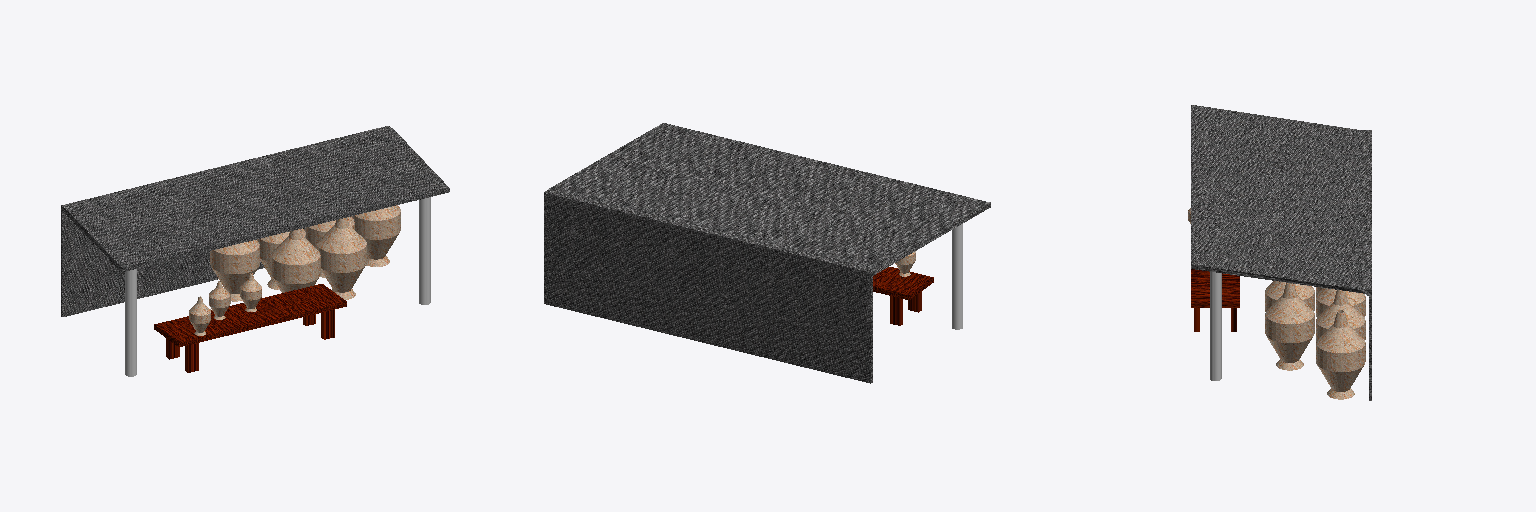
The picture shows the model from 3 angles: view 1: azimuth 30°, elevation 25°; view 2: azimuth 150°, elevation 25°; view 3: azimuth 270°, elevation 25°; orthographic projection.
Visible parts, largest first — view 1: Cube.001_Cube.002, Cylinder.001, Cube_Cube.001, Cylinder, Cylinder.002; view 2: Cube.001_Cube.002, Cube_Cube.001, Cylinder; view 3: Cube.001_Cube.002, Cylinder.001, Cube_Cube.001, Cylinder.
Boxes of the visible parts, box(x1,y1,x2,y2) form: Cube.001_Cube.002: box(61, 126, 449, 316); Cylinder.001: box(210, 205, 400, 301); Cube_Cube.001: box(154, 284, 346, 372); Cylinder: box(125, 197, 430, 376); Cylinder.002: box(189, 273, 261, 335); Cube.001_Cube.002: box(544, 123, 990, 383); Cube_Cube.001: box(873, 267, 933, 325); Cylinder: box(952, 224, 962, 329); Cube.001_Cube.002: box(1191, 105, 1371, 400); Cylinder.001: box(1265, 281, 1365, 399); Cube_Cube.001: box(1191, 269, 1239, 331); Cylinder: box(1210, 272, 1221, 380).
Size of the model in its own units: 16.67 by 5.74 by 7.43.
Materials: 4 (3 with a texture image).